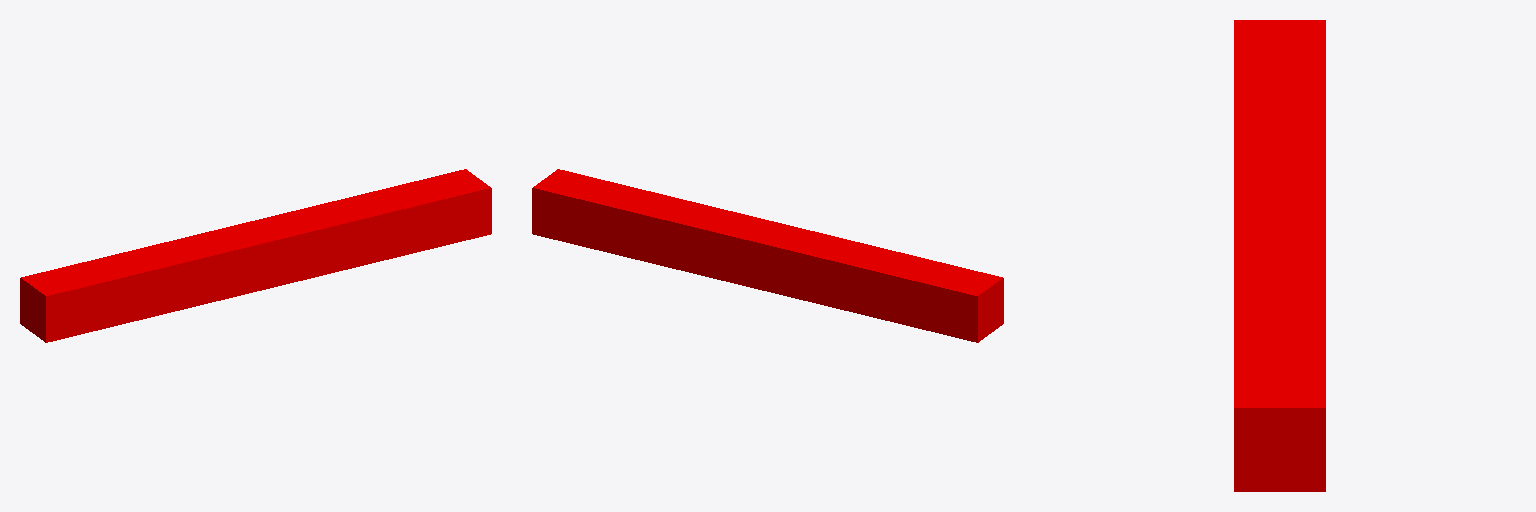
The robot description file, URDF, robot "rod":
<robot name="rod">
  <link name="base_link">
    <visual>
      <origin xyz="0 0 0" rpy="0 0 0" />
      <geometry>
        <box size="0.50 0.05 0.05"/>
      </geometry>
      <material name="white">
        <color rgba="1 0 0 1"/>
      </material>
    </visual>
    <collision>
      <origin xyz="0 0 0" rpy="0 0 0" />
      <geometry>
        <box size="0.50 0.05 0.05"/>
      </geometry>
    </collision>
  </link>
</robot>

--- Render facts (derived) ---
3 views of the same robot in one strip: view 1: azimuth 30°, elevation 25°; view 2: azimuth 150°, elevation 25°; view 3: azimuth 270°, elevation 25° (orthographic).
Model rod with 1 links and 0 joints (none), rooted at base_link, posed all joints at 0.
Links seen in each view (by area): view 1: base_link; view 2: base_link; view 3: base_link.
Link boxes in pixels (x1=…): base_link: x1=20, y1=169, x2=491, y2=342; base_link: x1=532, y1=169, x2=1003, y2=342; base_link: x1=1234, y1=20, x2=1325, y2=491.
Bounding box of the posed robot: 0.5 × 0.05 × 0.05 m (x, y, z).
Geometry: primitives only (box / cylinder / sphere), no mesh files.